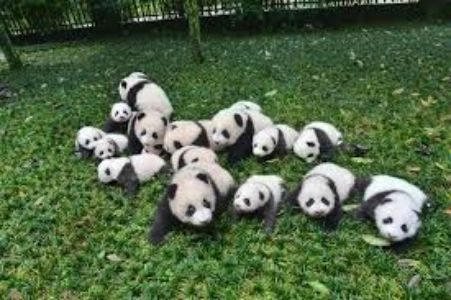bear: (156, 162, 233, 250), (362, 173, 430, 251), (294, 163, 356, 232), (229, 168, 282, 237), (209, 95, 264, 154), (112, 70, 177, 111), (94, 156, 165, 191), (251, 122, 299, 164), (164, 114, 212, 154), (300, 120, 343, 164), (134, 109, 172, 158), (166, 144, 227, 174), (103, 98, 137, 132), (74, 120, 103, 153), (93, 137, 126, 157)
